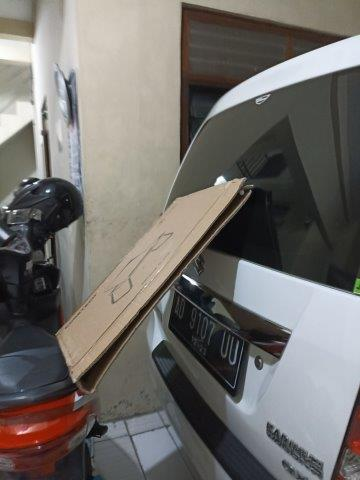kardus: (57, 180, 249, 389)
